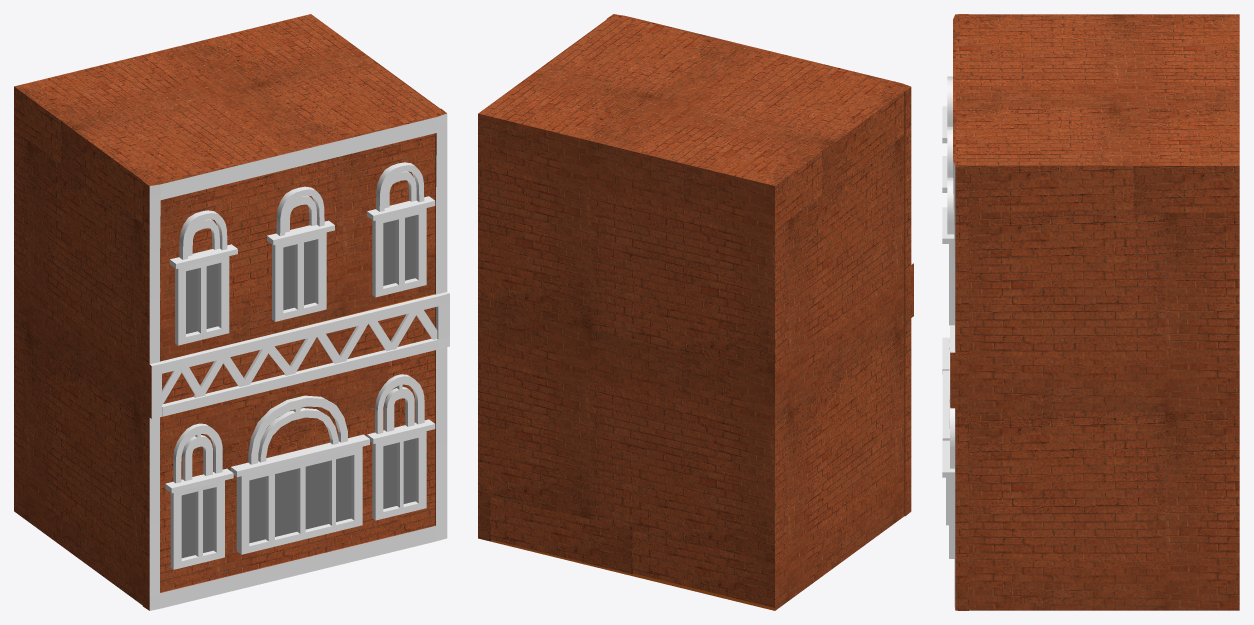
The model's file is Yemeni_Building.obj.
3 views of the same model, side by side, from view 1: azimuth 30°, elevation 25°; view 2: azimuth 150°, elevation 25°; view 3: azimuth 270°, elevation 25° (orthographic). The views are drawn at different scales.
Parts seen in each view (by area): view 1: Ladrillo, Marco_Ventanas, Fachada, Cristales; view 2: Ladrillo; view 3: Ladrillo, Marco_Ventanas, Fachada.
Boxes of the visible parts, <box> form: Ladrillo: <box>14,14,446,610</box>; Marco_Ventanas: <box>165,162,435,569</box>; Fachada: <box>149,113,449,610</box>; Cristales: <box>181,215,415,558</box>; Ladrillo: <box>478,14,913,610</box>; Ladrillo: <box>950,14,1239,610</box>; Marco_Ventanas: <box>942,76,954,558</box>; Fachada: <box>949,160,955,609</box>.
Bounding box in the file's own units: 16.89 × 22.97 × 13.94.
